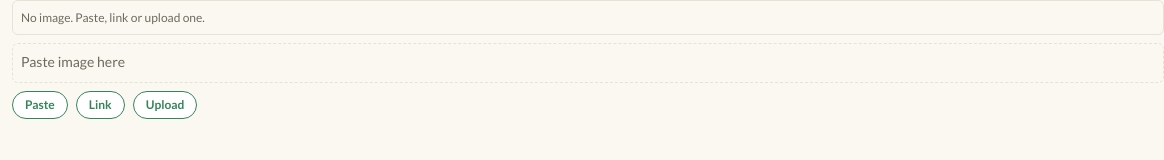
ImageControl › shows an error when the clipboard holds no image
The width and height of the screenshot is (1164, 160).
Click the button "Paste": (40, 105) [12,91,68,119]
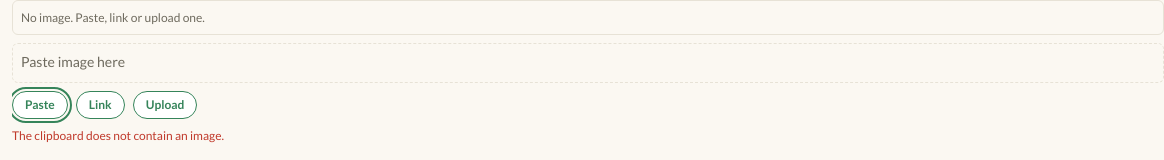
expect the message reads "The clipboard does not contain an image.": met, box [12,128,224,143]
